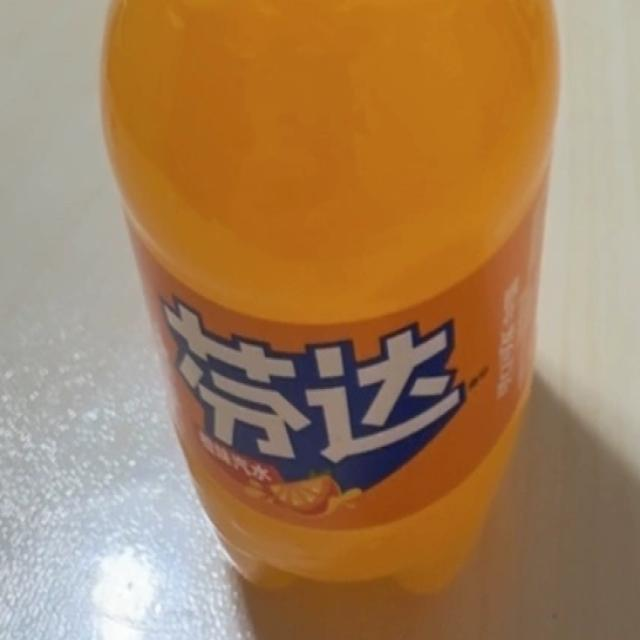orange: (149, 288, 474, 532)
